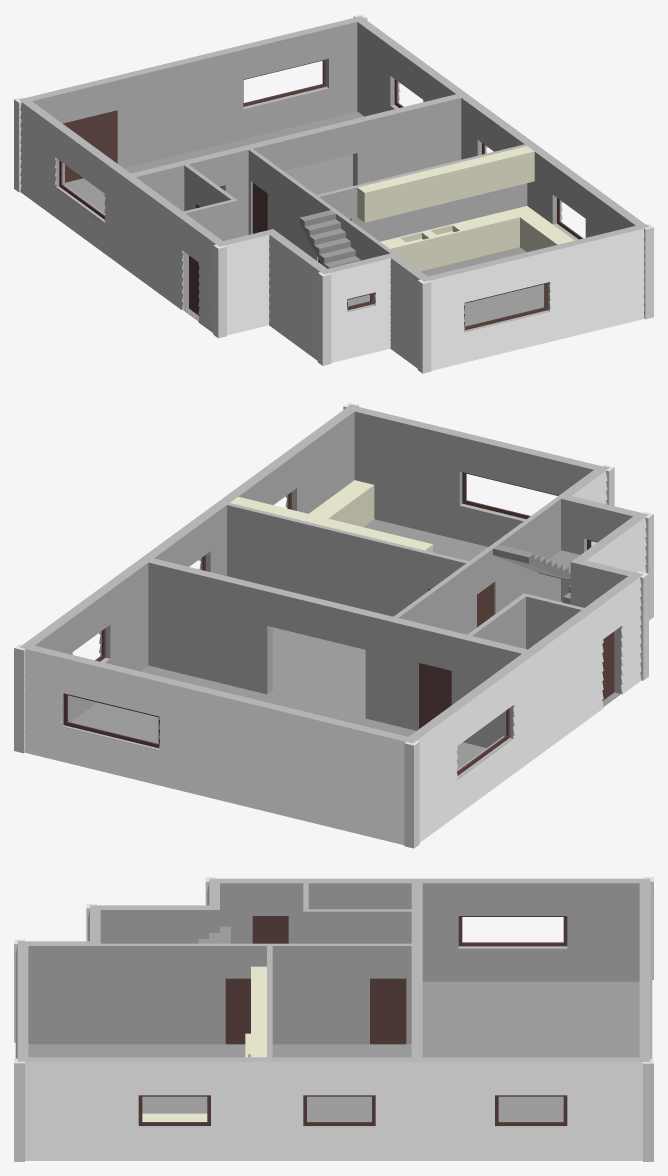
3 renders of one model, top to bottom at view 1: azimuth 30°, elevation 25°; view 2: azimuth 150°, elevation 25°; view 3: azimuth 270°, elevation 25°, orthographic. The views are drawn at different scales.
Size of the model in its own units: 1220 by 302 by 1770.
